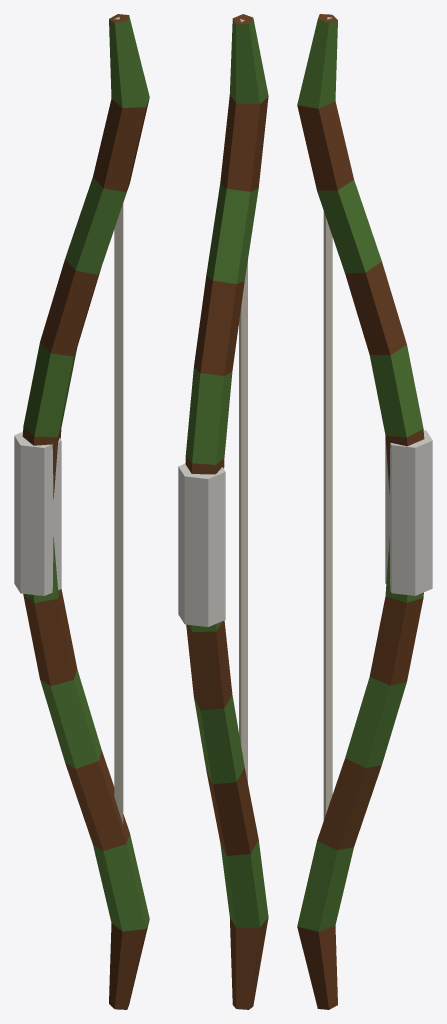
File: weapon_bow.glb
3 renders of one model, left to right at view 1: azimuth 90°, elevation 25°; view 2: azimuth 150°, elevation 25°; view 3: azimuth 270°, elevation 25°, orthographic.
Parts seen in each view (by area): view 1: centaur_weapon_bow; view 2: centaur_weapon_bow; view 3: centaur_weapon_bow.
Boxes of the visible parts, x1,y1,x2,y2 form: centaur_weapon_bow: (14, 14, 149, 1009); centaur_weapon_bow: (178, 14, 268, 1009); centaur_weapon_bow: (297, 14, 432, 1009).
Size of the model in its own units: 0.0417 by 0.9622 by 0.1195.
